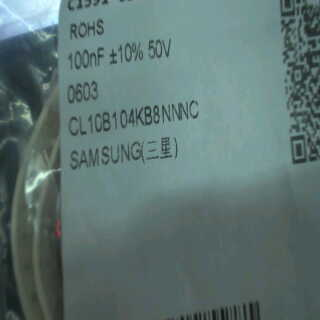100nF: (67, 44, 104, 73)
